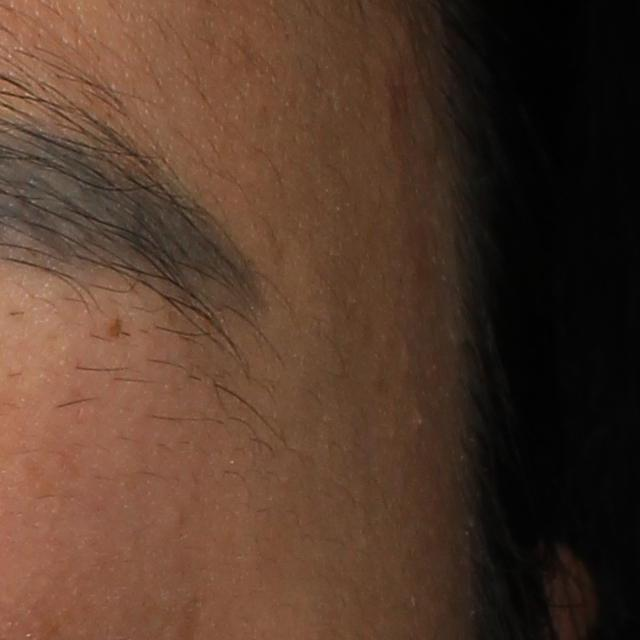nevus: (107, 317, 126, 341)
